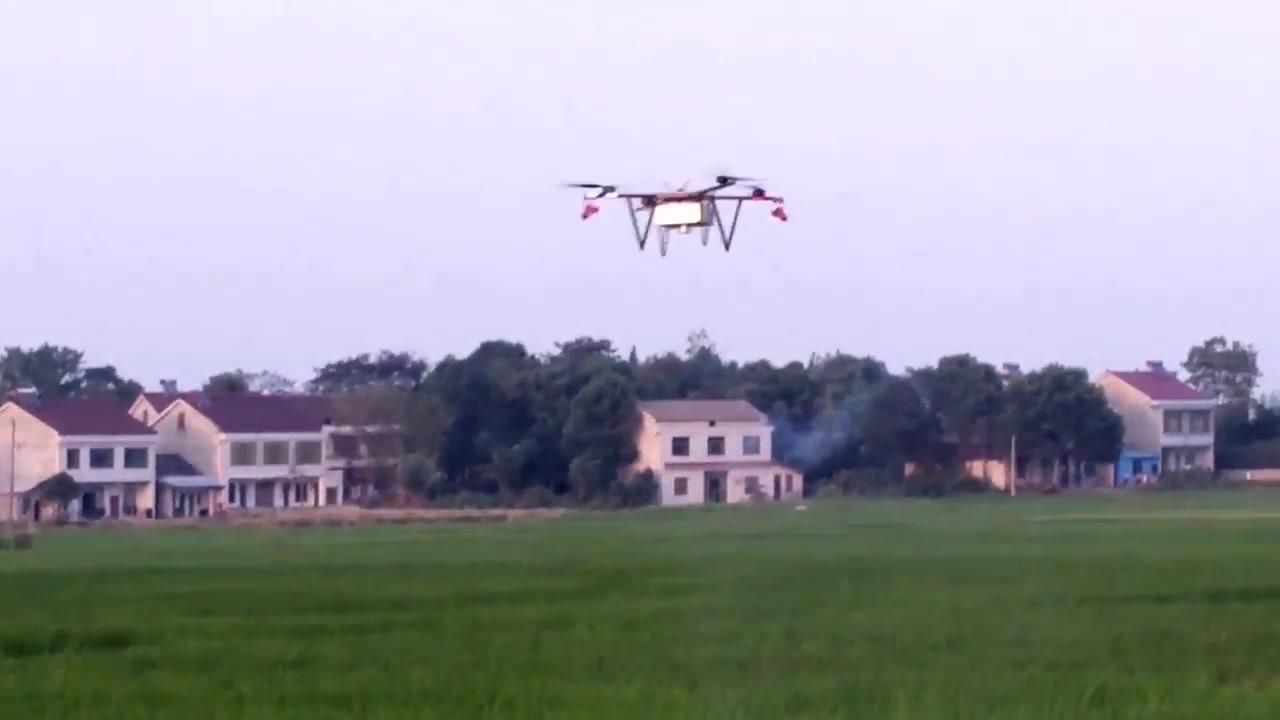UAV: (567, 176, 789, 258)
